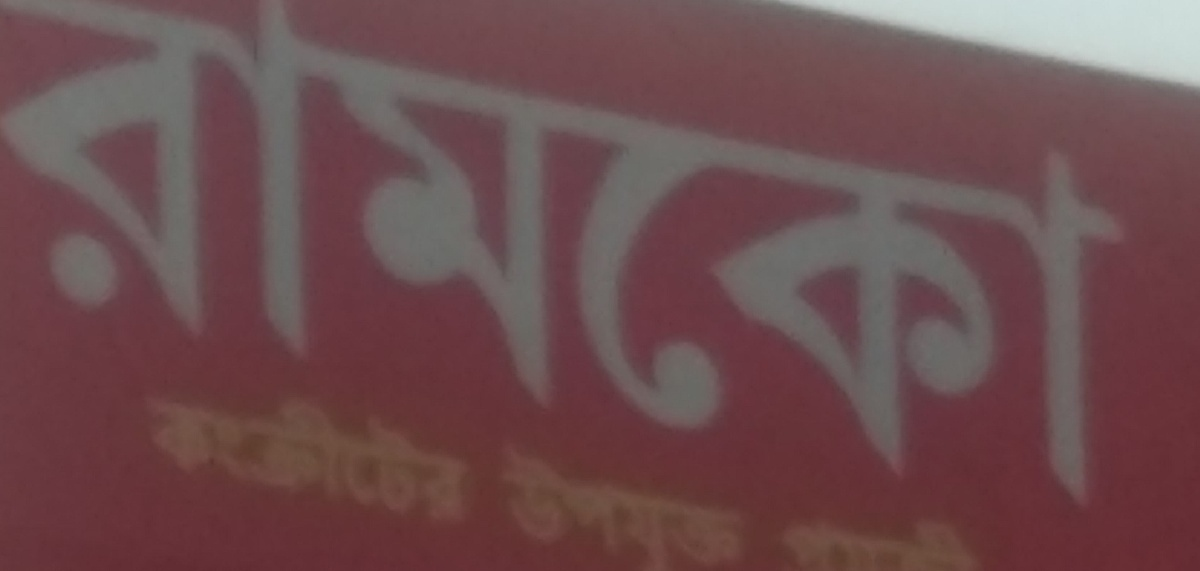text: (17, 1, 32, 537), (33, 1, 48, 537), (49, 1, 64, 537), (65, 1, 80, 537), (81, 1, 96, 537), (97, 1, 112, 537), (113, 1, 128, 537), (129, 1, 144, 537), (145, 1, 160, 537), (161, 1, 176, 537), (177, 1, 192, 537), (193, 1, 208, 537), (209, 1, 224, 537), (225, 1, 240, 537), (241, 1, 256, 537), (257, 1, 272, 537), (273, 1, 288, 537), (289, 1, 304, 537), (305, 1, 320, 537), (321, 1, 336, 537), (337, 1, 352, 537), (353, 1, 368, 537), (369, 1, 384, 537), (385, 1, 400, 537), (401, 1, 416, 537), (417, 1, 432, 537), (433, 1, 448, 537), (449, 1, 464, 537), (465, 1, 480, 537), (481, 1, 496, 537), (497, 1, 512, 537), (513, 1, 528, 537), (529, 1, 544, 537), (545, 1, 560, 537), (561, 1, 576, 537), (577, 1, 592, 537), (593, 1, 608, 537), (609, 1, 624, 537), (625, 1, 640, 537), (641, 1, 656, 537), (657, 1, 672, 537), (673, 1, 688, 537), (689, 1, 704, 537), (705, 1, 720, 537), (721, 1, 736, 537), (737, 1, 752, 537), (753, 1, 768, 537), (769, 1, 784, 537), (785, 1, 800, 537), (801, 1, 816, 537), (817, 1, 832, 537), (833, 1, 848, 537), (849, 1, 864, 537), (865, 1, 880, 537), (881, 1, 896, 537), (897, 1, 912, 537), (913, 1, 928, 537), (929, 1, 944, 537), (945, 1, 960, 537), (961, 1, 976, 537), (977, 1, 992, 537), (993, 1, 1008, 537), (1009, 1, 1024, 537), (1025, 1, 1040, 537), (1041, 1, 1056, 537), (1057, 1, 1072, 537), (1073, 1, 1088, 537), (1089, 1, 1104, 537), (1105, 1, 1120, 537), (1121, 1, 1136, 537), (2, 1, 16, 537), (1137, 1, 1142, 537), (145, 373, 160, 534), (161, 373, 176, 534), (177, 373, 192, 534), (193, 373, 208, 534), (209, 373, 224, 534), (225, 373, 240, 534), (241, 373, 256, 534), (257, 373, 272, 534), (273, 373, 288, 534), (289, 373, 304, 534), (305, 373, 320, 534), (321, 373, 336, 534), (337, 373, 352, 534), (353, 373, 368, 534), (369, 373, 384, 534), (385, 373, 400, 534), (401, 373, 416, 534), (417, 373, 432, 534), (433, 373, 448, 534), (449, 373, 464, 534), (497, 439, 512, 570), (513, 439, 528, 570), (529, 439, 544, 570), (545, 439, 560, 570), (561, 439, 576, 570), (577, 439, 592, 570), (593, 439, 608, 570), (609, 439, 624, 570), (625, 439, 640, 570), (641, 439, 656, 570), (657, 439, 672, 570), (673, 439, 688, 570), (689, 439, 704, 570), (705, 439, 720, 570), (721, 439, 736, 570), (737, 439, 750, 570), (465, 373, 474, 534), (785, 508, 800, 570), (801, 508, 816, 570), (817, 508, 832, 570), (833, 508, 848, 570), (849, 508, 864, 570), (865, 508, 880, 570), (881, 508, 896, 570), (897, 508, 912, 570), (913, 508, 928, 570), (929, 508, 944, 570), (945, 508, 960, 570), (961, 508, 976, 570), (775, 508, 784, 570), (977, 508, 983, 570), (495, 439, 496, 570)
